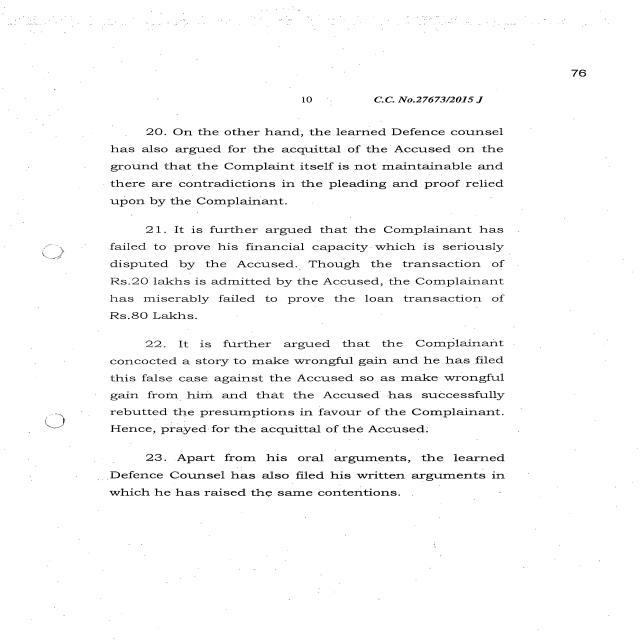page-number: (489, 38, 640, 124)
